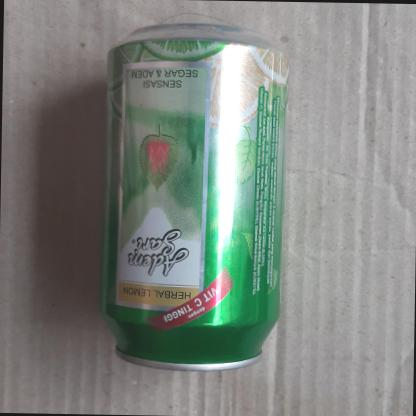alumunium_can: (88, 5, 291, 398)
